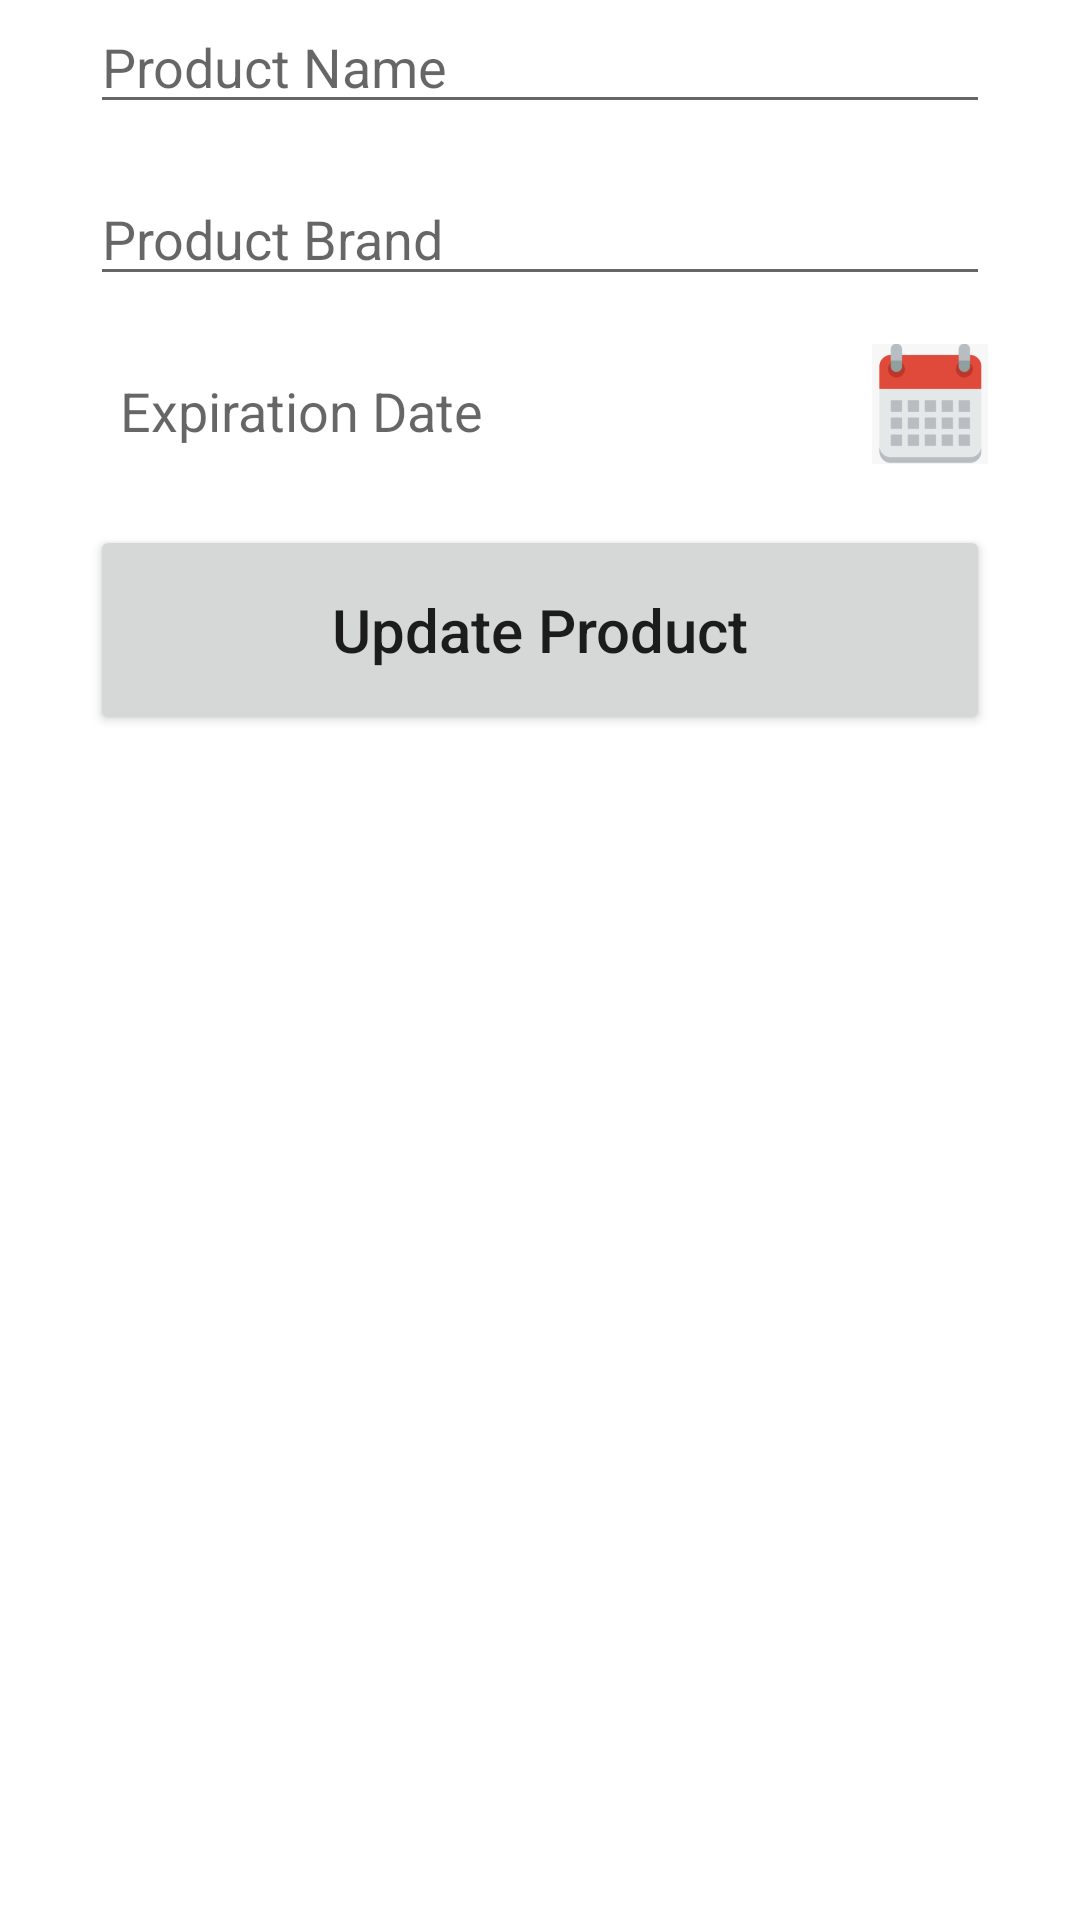

Named icons in this screenshot (1080px×1920px) and their bounding boxes, (x1, y1, x2, y2):
Select Date: (879, 344, 982, 463)
